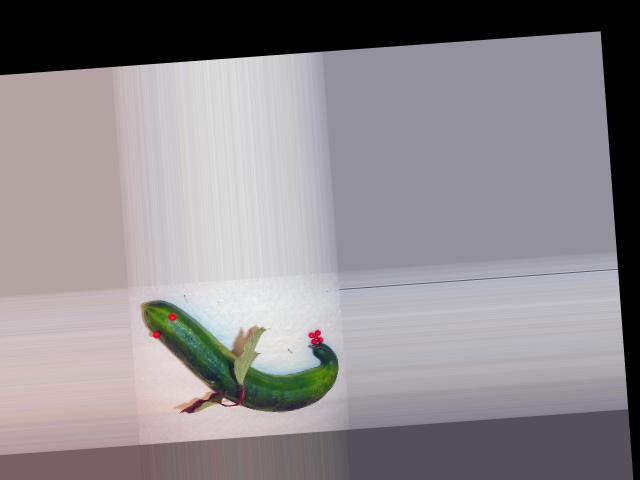cucumber: (143, 287, 341, 421)
